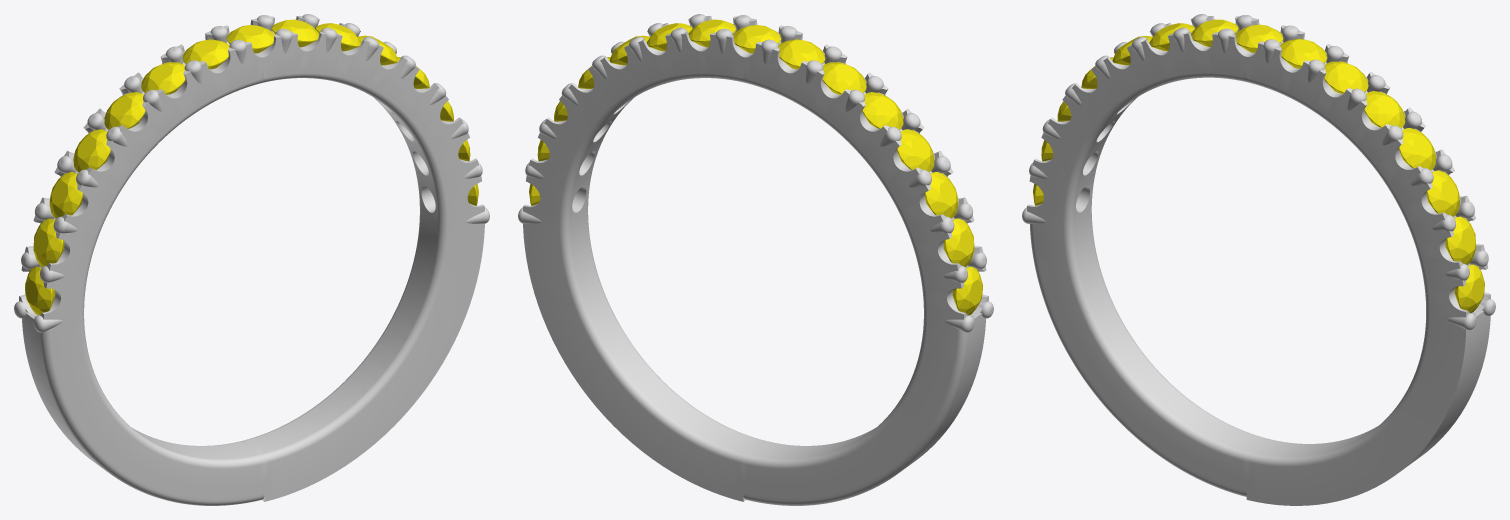
Rendered from KatePTcitrine_blender.glb.
3 views of the same model, side by side, from view 1: azimuth 30°, elevation 25°; view 2: azimuth 150°, elevation 25°; view 3: azimuth 330°, elevation 25° (orthographic).
Visible parts, largest first — view 1: Kate PT for 3d model, Kate citrine for 3d model.011, Kate citrine for 3d model.010, Kate citrine for 3d model.012, Kate citrine for 3d model.009, Kate citrine for 3d model.013, Kate citrine for 3d model.008, Kate citrine for 3d model.014, Kate citrine for 3d model.007, Kate citrine for 3d model.006, Kate citrine for 3d model.005; view 2: Kate PT for 3d model, Kate citrine for 3d model.011, Kate citrine for 3d model.010, Kate citrine for 3d model.012, Kate citrine for 3d model.009, Kate citrine for 3d model.013, Kate citrine for 3d model.008, Kate citrine for 3d model.014, Kate citrine for 3d model.007, Kate citrine for 3d model.006, Kate citrine for 3d model.005; view 3: Kate PT for 3d model, Kate citrine for 3d model.003, Kate citrine for 3d model.004, Kate citrine for 3d model.002, Kate citrine for 3d model.005, Kate citrine for 3d model.001, Kate citrine for 3d model.006, Kate citrine for 3d model, Kate citrine for 3d model.007, Kate citrine for 3d model.008, Kate citrine for 3d model.009.
Part boxes in pixels (x1,y1,x2,y2): Kate PT for 3d model: (14,14,489,505); Kate citrine for 3d model.011: (73,129,110,171); Kate citrine for 3d model.010: (104,92,145,129); Kate citrine for 3d model.012: (49,172,82,218); Kate citrine for 3d model.009: (141,62,185,94); Kate citrine for 3d model.013: (33,218,64,266); Kate citrine for 3d model.008: (182,39,229,69); Kate citrine for 3d model.014: (25,266,55,315); Kate citrine for 3d model.007: (226,25,274,53); Kate citrine for 3d model.006: (271,19,319,47); Kate citrine for 3d model.005: (315,23,361,51); Kate PT for 3d model: (518,14,993,505); Kate citrine for 3d model.011: (897,129,934,171); Kate citrine for 3d model.010: (862,92,903,129); Kate citrine for 3d model.012: (925,172,958,218); Kate citrine for 3d model.009: (822,62,866,94); Kate citrine for 3d model.013: (943,218,974,266); Kate citrine for 3d model.008: (778,39,825,69); Kate citrine for 3d model.014: (952,266,982,315); Kate citrine for 3d model.007: (733,25,781,53); Kate citrine for 3d model.006: (688,19,736,47); Kate citrine for 3d model.005: (646,23,692,51); Kate PT for 3d model: (1022,14,1495,505); Kate citrine for 3d model.003: (1399,128,1436,170); Kate citrine for 3d model.004: (1364,91,1405,128); Kate citrine for 3d model.002: (1426,170,1459,216); Kate citrine for 3d model.005: (1324,61,1368,93); Kate citrine for 3d model.001: (1445,216,1476,264); Kate citrine for 3d model.006: (1280,38,1327,68); Kate citrine for 3d model: (1454,264,1484,312); Kate citrine for 3d model.007: (1235,24,1283,52); Kate citrine for 3d model.008: (1191,19,1238,47); Kate citrine for 3d model.009: (1149,23,1194,51).
Bounding box in the file's own units: 21.01 × 20.6 × 2.26.
